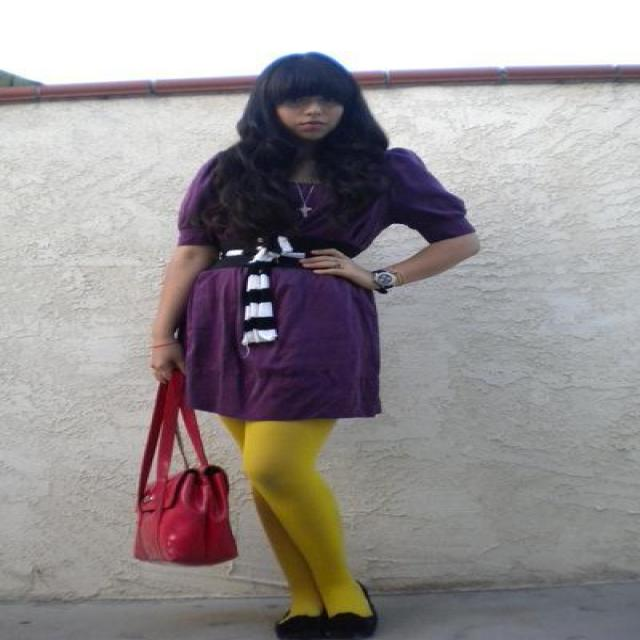bag: (134, 382, 237, 565)
dress: (168, 148, 474, 422)
shoe: (275, 603, 376, 639)
